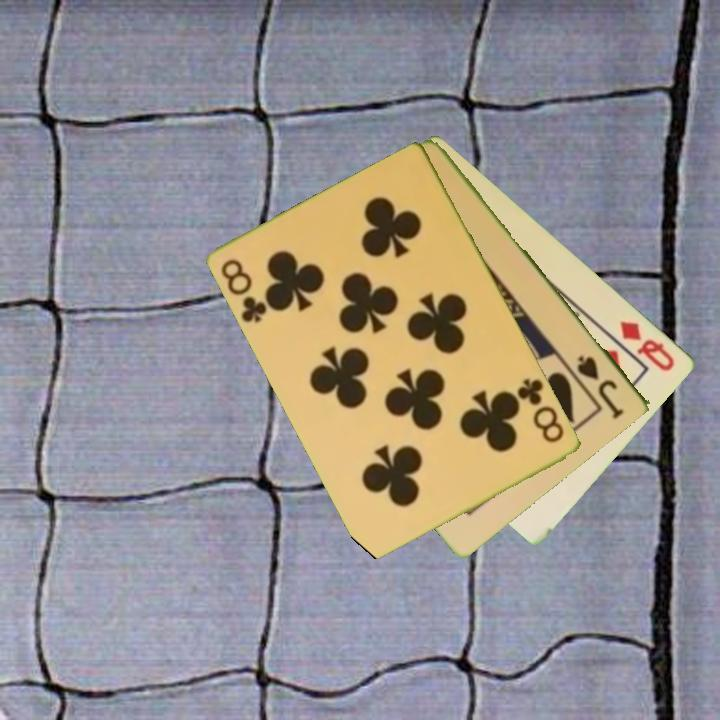8c: (514, 375, 568, 446), (218, 255, 271, 326)
Js: (574, 351, 628, 420)
Qd: (617, 317, 678, 375)
